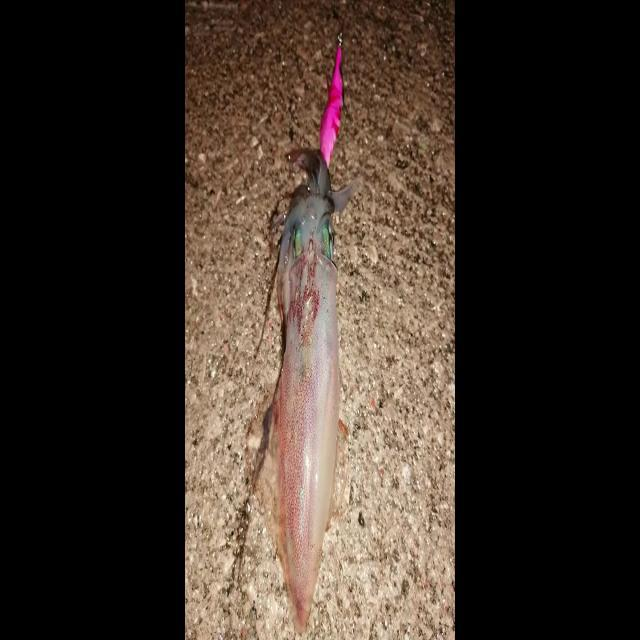squid: (244, 146, 350, 632)
